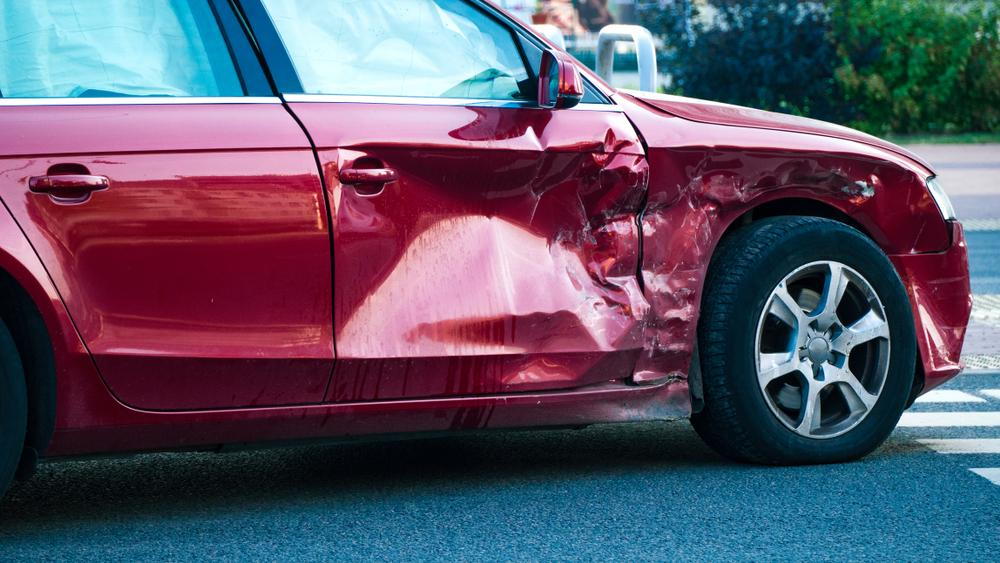dent: (333, 128, 648, 384), (632, 146, 925, 377), (611, 380, 694, 419)
